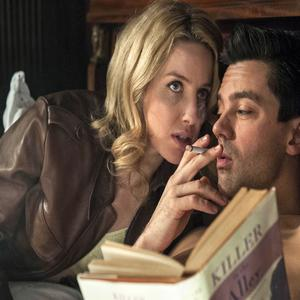cigarette: (185, 144, 214, 155)
